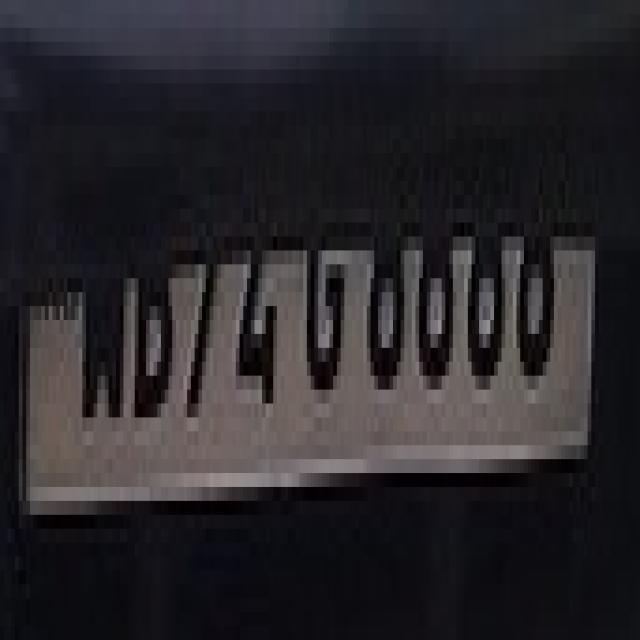License Plate: (21, 132, 600, 512)
